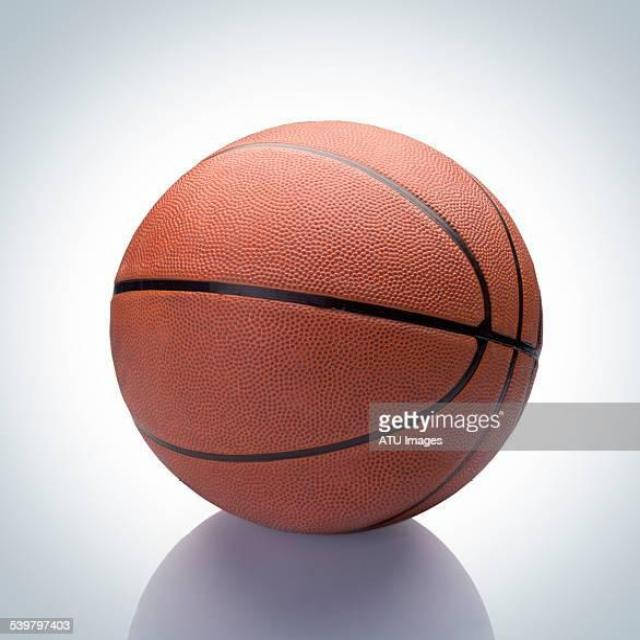ball: (102, 114, 547, 535)
